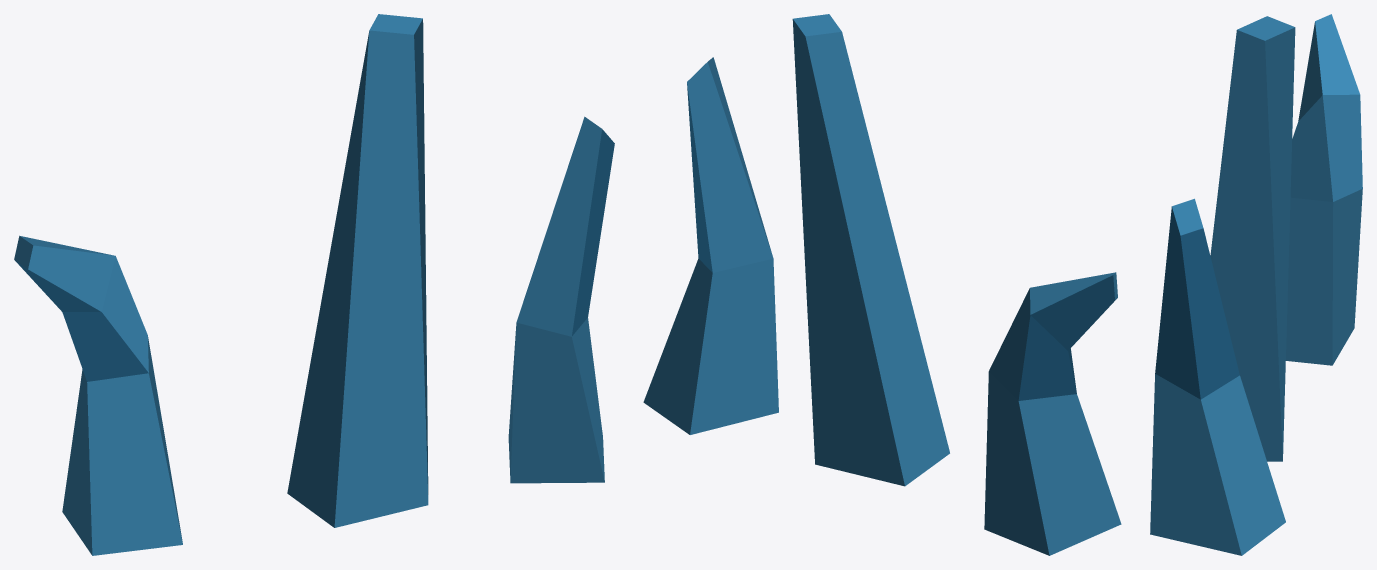
Rendered from GrassWinter1.fbx.
3 views of the same model, side by side, from view 1: azimuth 30°, elevation 25°; view 2: azimuth 150°, elevation 25°; view 3: azimuth 270°, elevation 25° (orthographic). The views are drawn at different scales.
Visible parts, largest first — view 1: GrassWinter1; view 2: GrassWinter1; view 3: GrassWinter1.
Boxes of the visible parts, x1,y1,x2,y2 form: GrassWinter1: [14, 14, 614, 555]; GrassWinter1: [643, 14, 1121, 555]; GrassWinter1: [1150, 14, 1362, 555].
Bounding box in the file's own units: 0.327 × 0.2606 × 0.1152.
